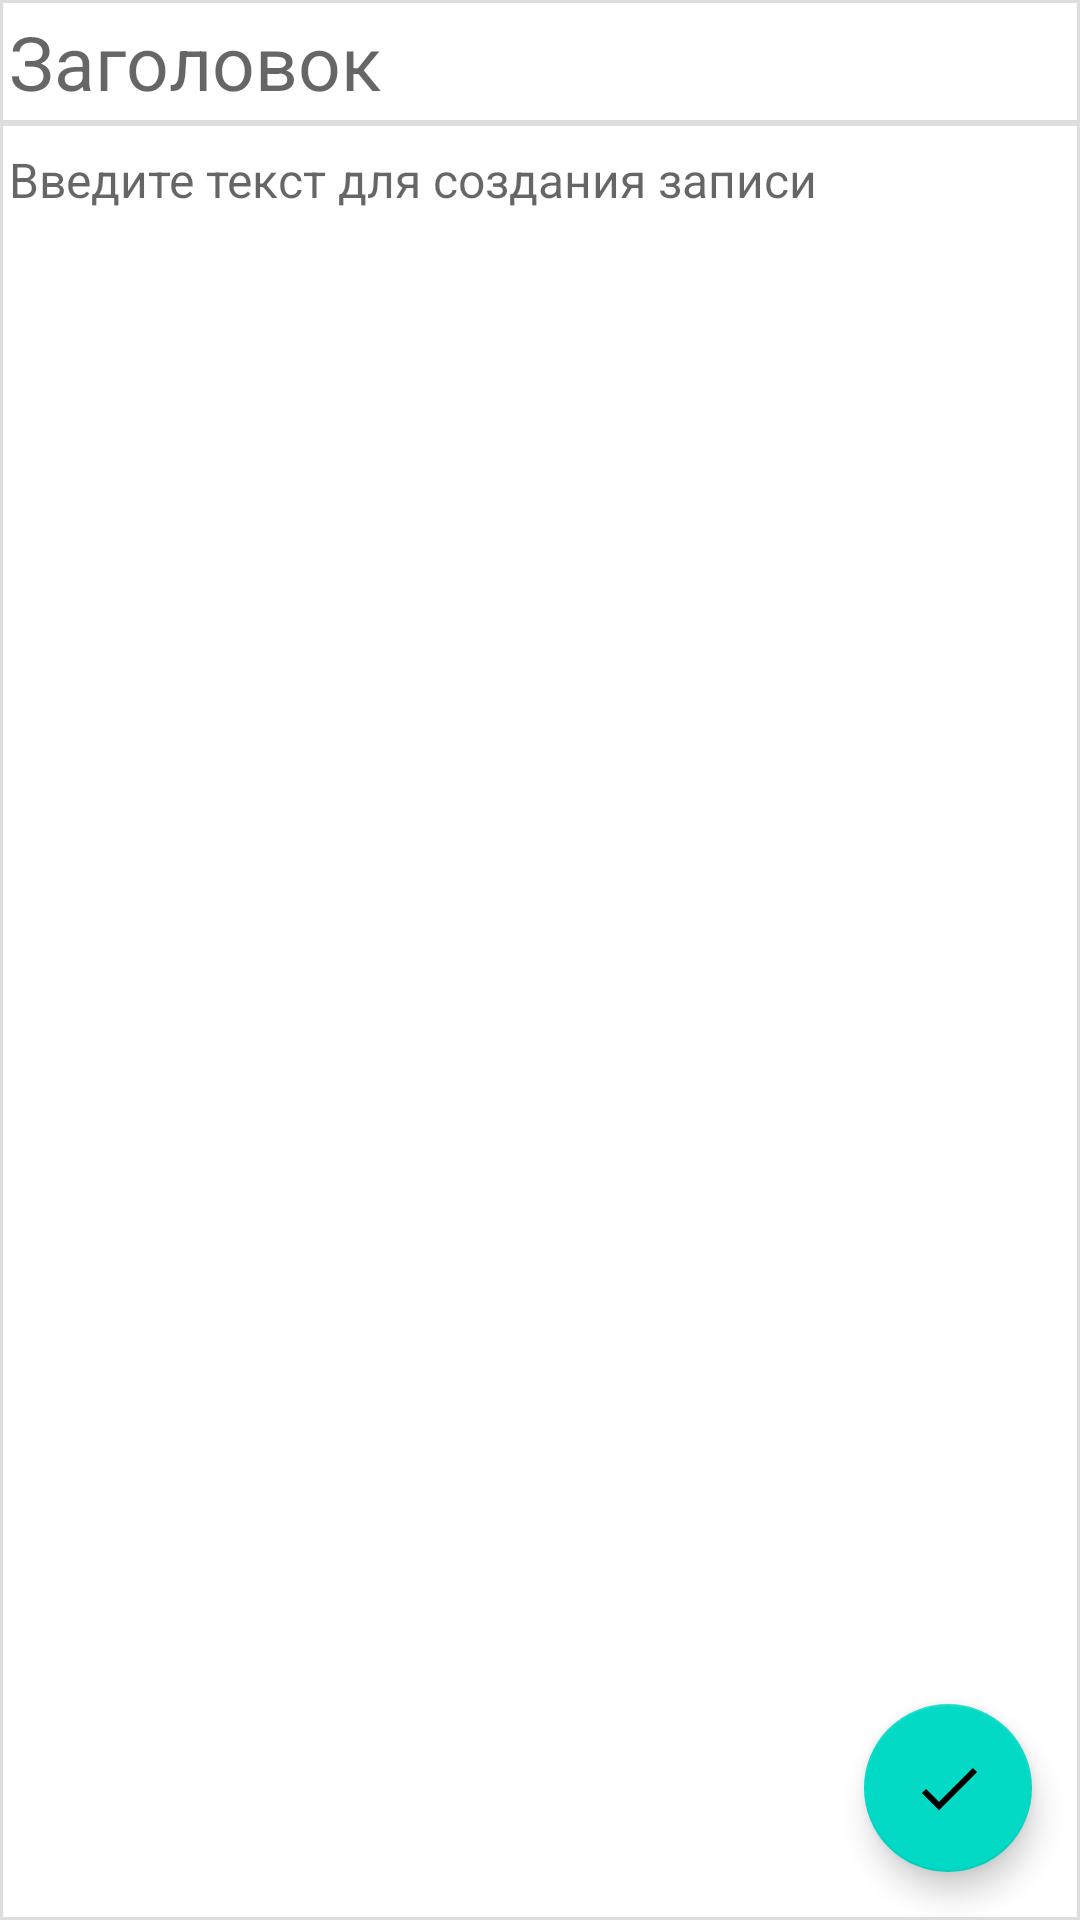

Named icons in this screenshot (1080px×1920px) and their centers, (x=x, y=y):
done: (x=948, y=1788)
